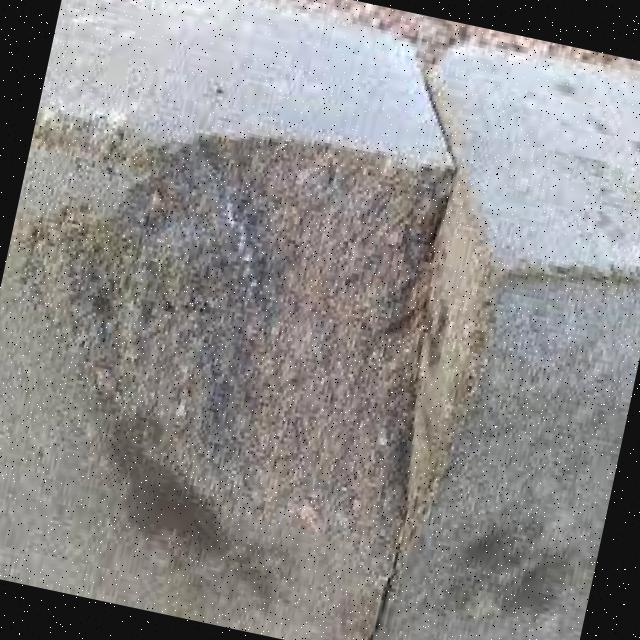curb: (1, 1, 456, 640), (369, 49, 640, 640)
